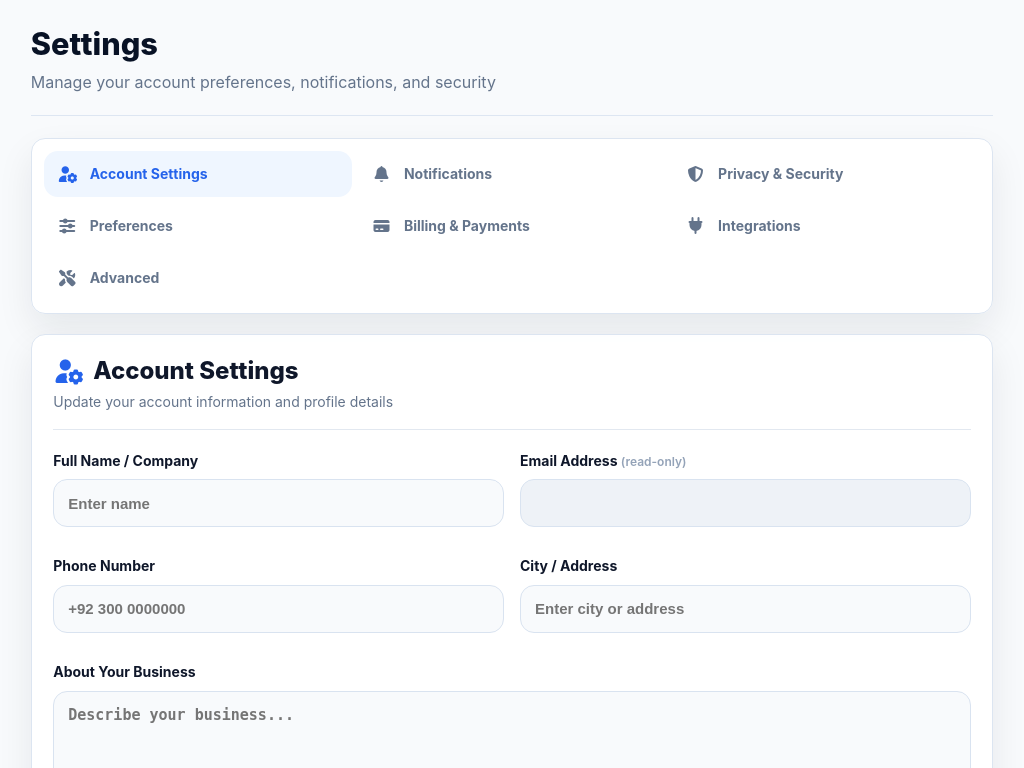
Test case: Settings displays Notification on user action and dismisses on close button click
The image size is (1024, 768).
# Switch to advanced section
Click the link "Advanced" at (108, 278), box [57,269,159,286]
(page scrolled)
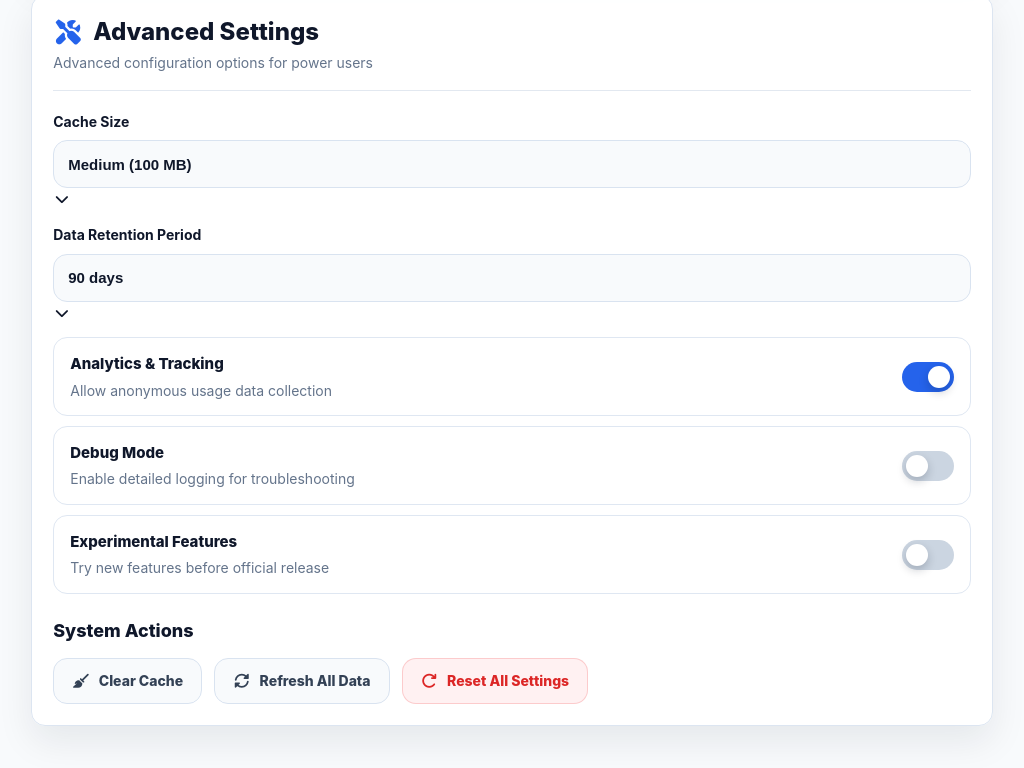
Click the button "Clear Cache" at (128, 681), box [53,658,202,704]
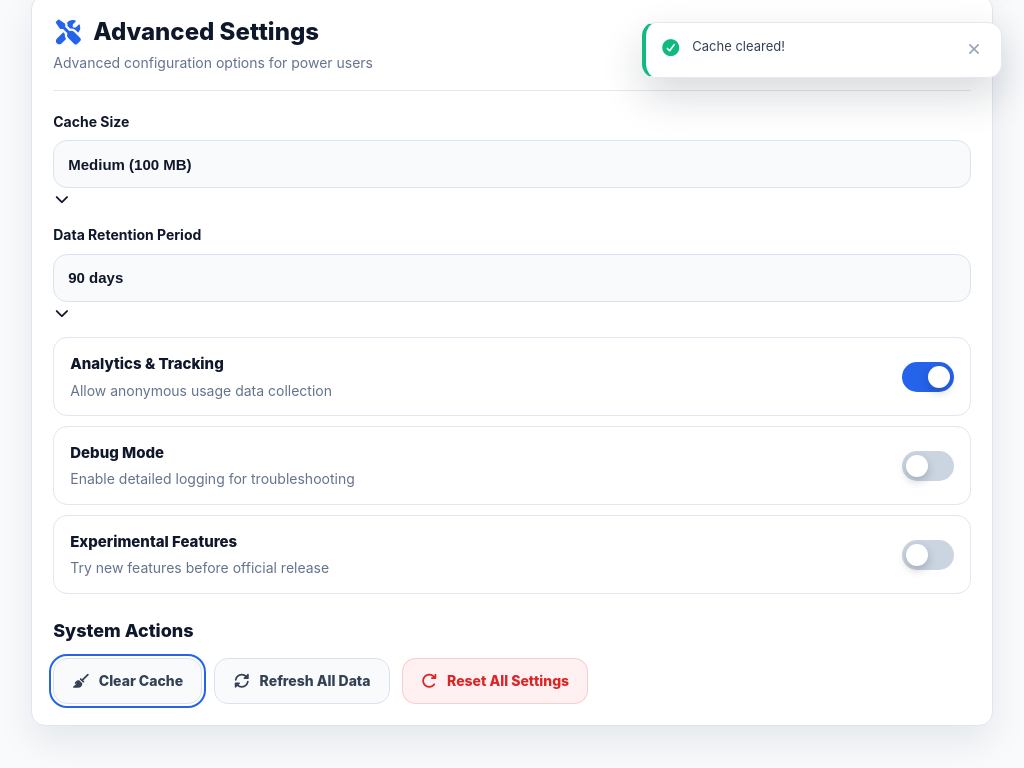
Expected: the message "Cache cleared!" is shown, [642,22,1002,78]
Expected: the message reads "Cache cleared!", [692,38,785,54]
# Click close button on Notification
Click the button named "Close notification" at (974, 50), box [961,37,987,63]
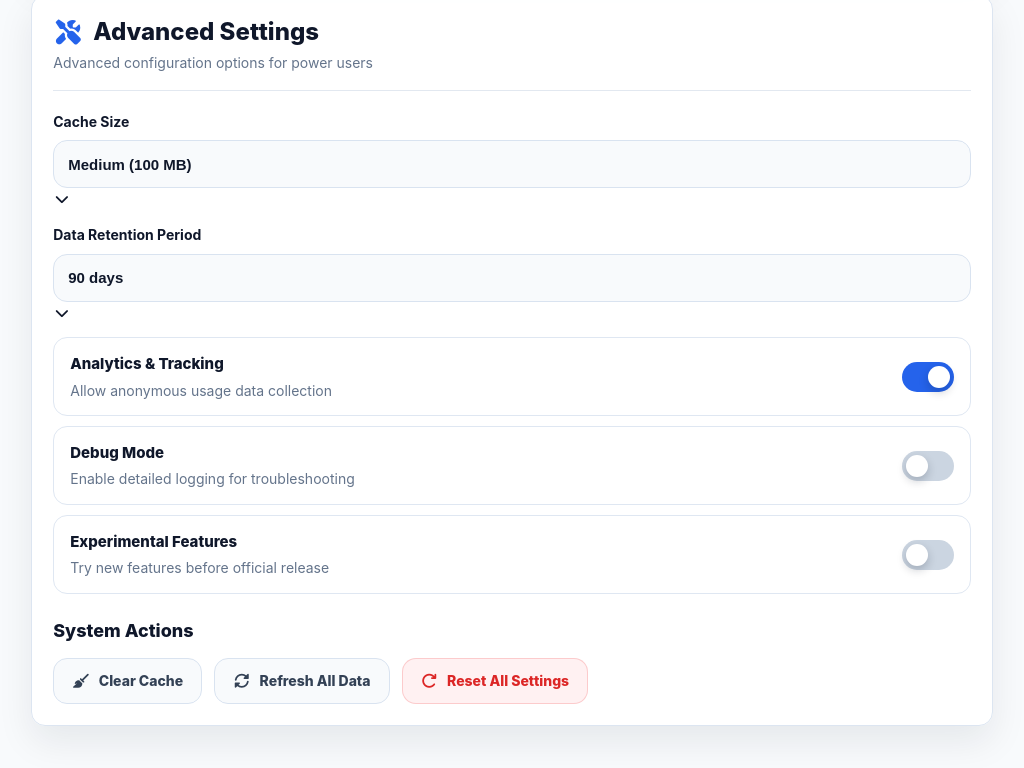
Expected: the message "Cache cleared!" is gone
